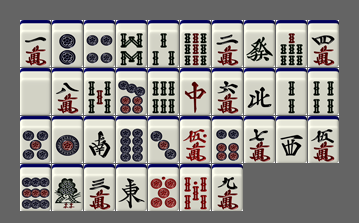0m: (180, 116, 211, 163)
0p: (148, 164, 179, 211)
0s: (180, 164, 211, 211)
1m: (20, 20, 51, 67)
1p: (52, 116, 83, 163)
1s: (52, 164, 83, 211)
1z: (116, 164, 147, 211)
2m: (212, 20, 243, 67)
2p: (52, 20, 83, 67)
2s: (276, 68, 307, 115)
2z: (84, 116, 115, 163)
3m: (84, 164, 115, 211)
3p: (148, 116, 179, 163)
3s: (148, 20, 179, 67)
3z: (276, 116, 307, 163)
4m: (308, 20, 339, 67)
4p: (84, 20, 115, 67)
4s: (308, 68, 339, 115)
4z: (244, 68, 275, 115)
5m: (308, 116, 339, 163)
5p: (20, 116, 51, 163)
5s: (84, 68, 115, 115)
5z: (20, 68, 51, 115)
6m: (212, 68, 243, 115)
6p: (212, 116, 243, 163)
6s: (148, 68, 179, 115)
6z: (244, 20, 275, 67)
7m: (244, 116, 275, 163)
7p: (116, 68, 147, 115)
7s: (276, 20, 307, 67)
7z: (180, 68, 211, 115)
8m: (52, 68, 83, 115)
8p: (116, 116, 147, 163)
8s: (116, 20, 147, 67)
9m: (212, 164, 243, 211)
9p: (20, 164, 51, 211)
9s: (180, 20, 211, 67)
